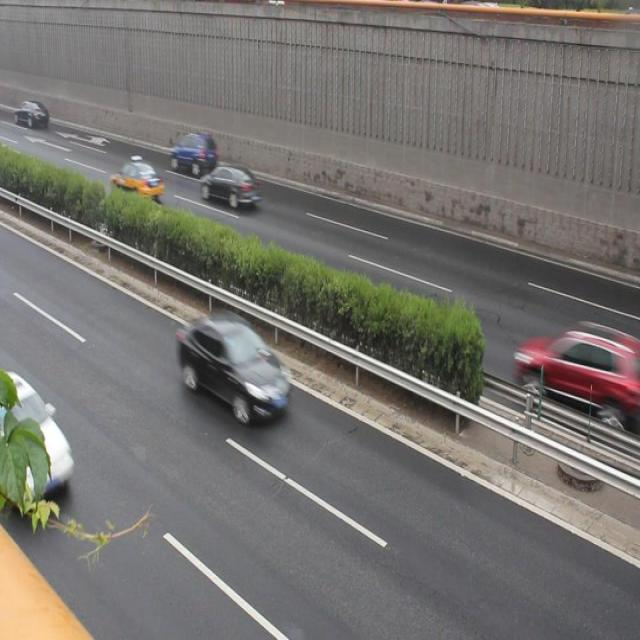car: (176, 310, 290, 420), (514, 323, 628, 415), (0, 372, 72, 516), (200, 164, 260, 212), (108, 159, 164, 204), (170, 135, 216, 177)
